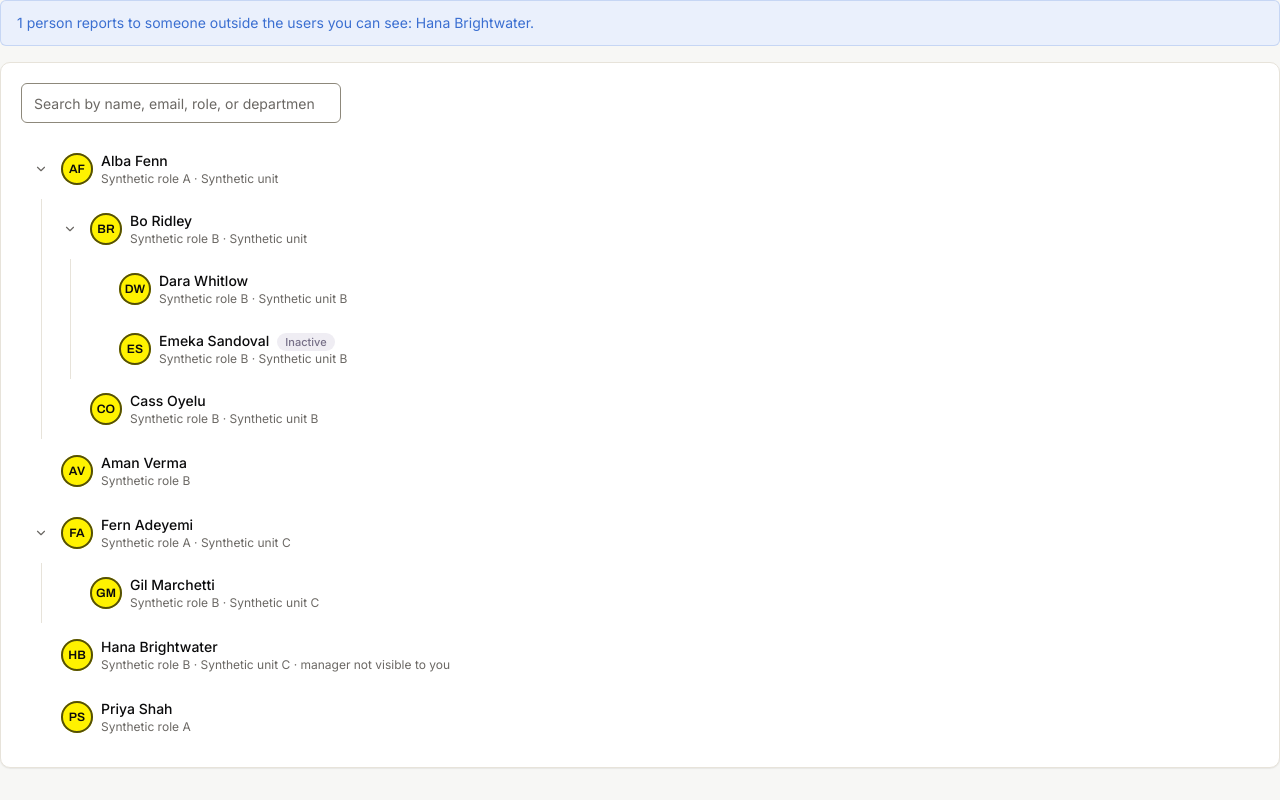
Test: org chart › searches, highlights the match, and expands the path to it
Expected: the text "Alba Fenn" is shown, [101,152,168,169]
Type "Dara" into the search field named "Search people" at point(181, 103), box [21,83,341,123]
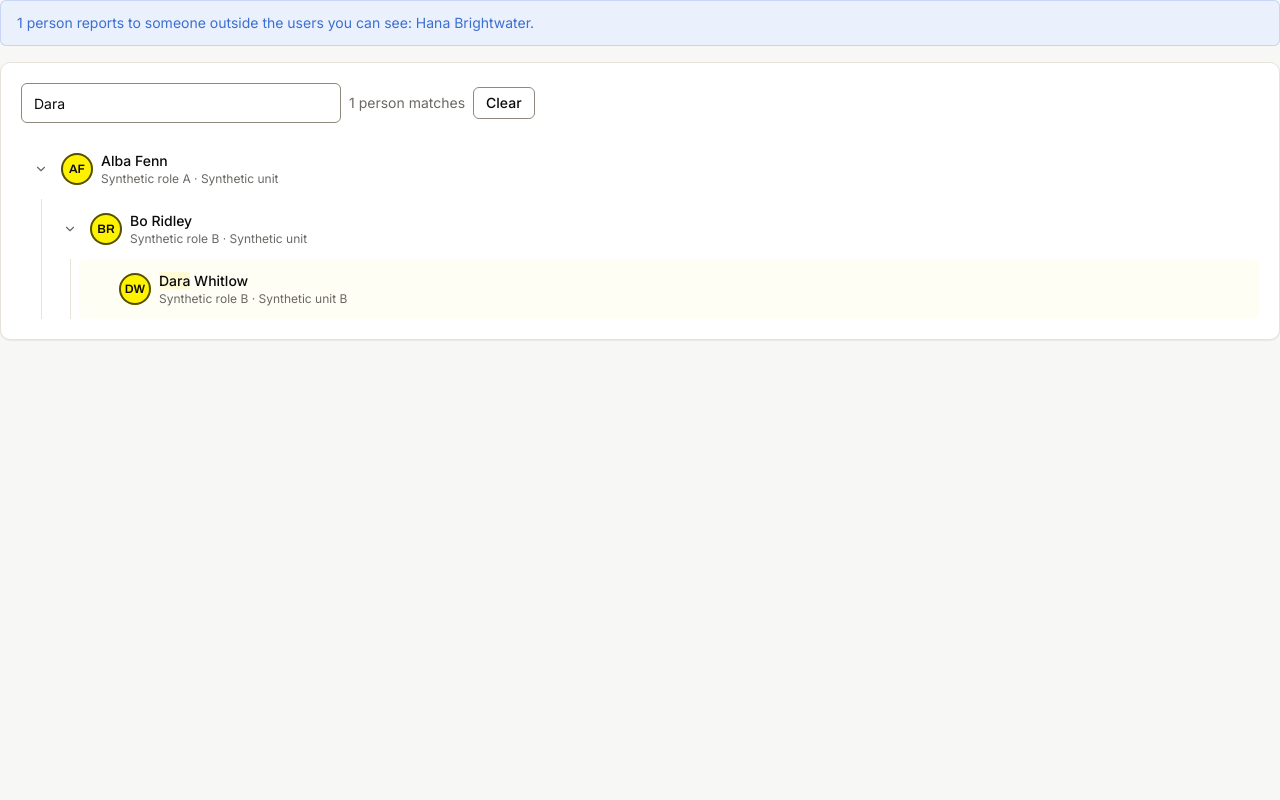
Expected: the text "Dara" is shown, [159,272,190,289]
Expected: the text "1 person matches" is shown, [349,93,465,113]
Expected: the text "Gil Marchetti" is gone
